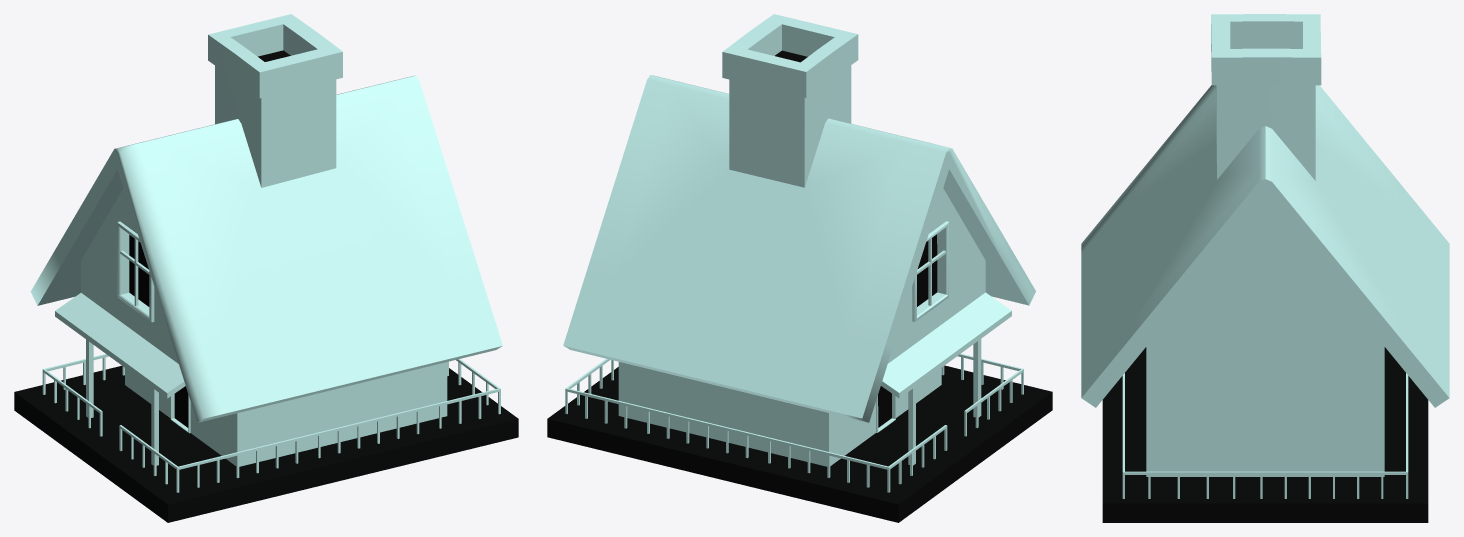
The model's file is mesh_house.fbx.
The picture shows the model from 3 angles, left to right: view 1: azimuth 30°, elevation 25°; view 2: azimuth 150°, elevation 25°; view 3: azimuth 270°, elevation 25°; orthographic projection. The views are drawn at different scales.
Parts seen in each view (by area): view 1: Boîte001, Boîte002, Boîte003, Boîte004; view 2: Boîte001, Boîte002, Boîte003, Boîte004; view 3: Boîte001, Boîte002, Boîte003.
Boxes of the visible parts, left/top/right/bottom form: Boîte001: left=30, top=14, right=502, bottom=466; Boîte002: left=14, top=365, right=518, bottom=522; Boîte003: left=42, top=354, right=500, bottom=492; Boîte004: left=86, top=339, right=158, bottom=465; Boîte001: left=563, top=14, right=1035, bottom=466; Boîte002: left=547, top=365, right=1052, bottom=522; Boîte003: left=565, top=353, right=1023, bottom=492; Boîte004: left=908, top=339, right=981, bottom=465; Boîte001: left=1081, top=14, right=1449, bottom=476; Boîte002: left=1102, top=347, right=1428, bottom=522; Boîte003: left=1122, top=373, right=1408, bottom=498.
Size of the model in its own units: 143 by 148 by 123.
